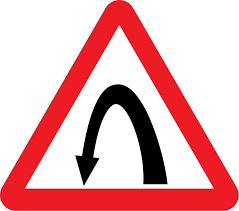Left Hair Pin Bend: (30, 7, 230, 210)
